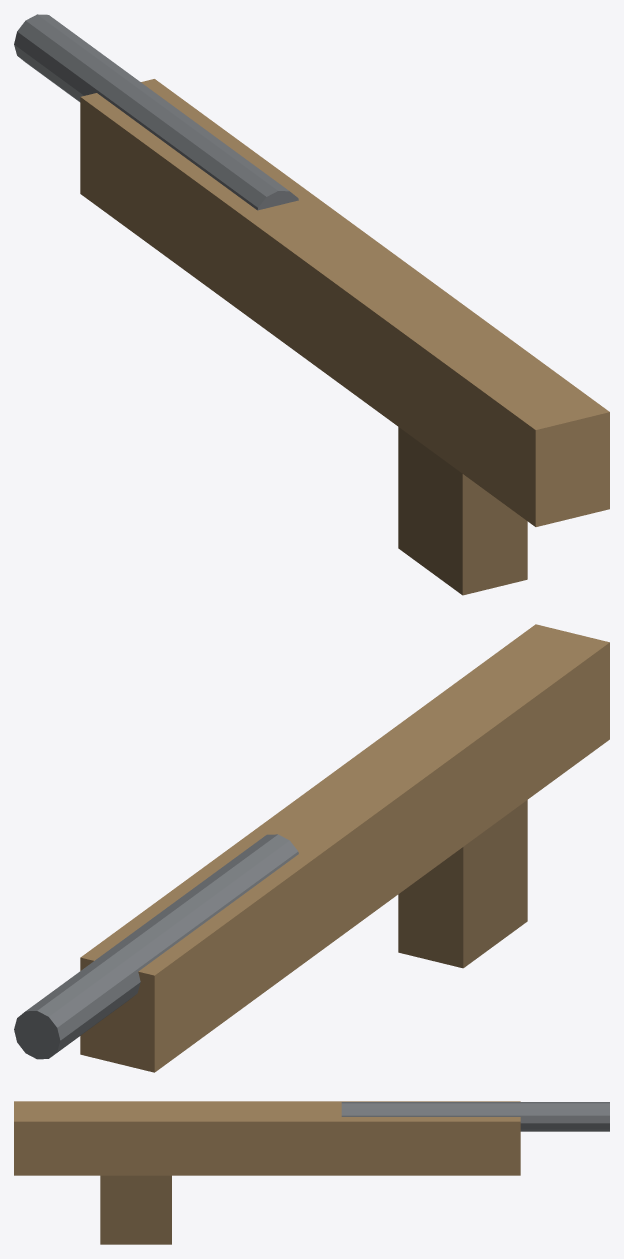
The model's file is rifle.glb.
3 renders of one model, top to bottom at view 1: azimuth 30°, elevation 25°; view 2: azimuth 150°, elevation 25°; view 3: azimuth 270°, elevation 25°, orthographic. The views are drawn at different scales.
Visible parts, largest first — view 1: geometry_0; view 2: geometry_0; view 3: geometry_0.
Part boxes in pixels (x1,y1,x2,y2): geometry_0: (14,14,609,595); geometry_0: (14,624,609,1072); geometry_0: (14,1101,609,1244).
Bounding box in the file's own units: 0.08 × 0.245 × 1.
